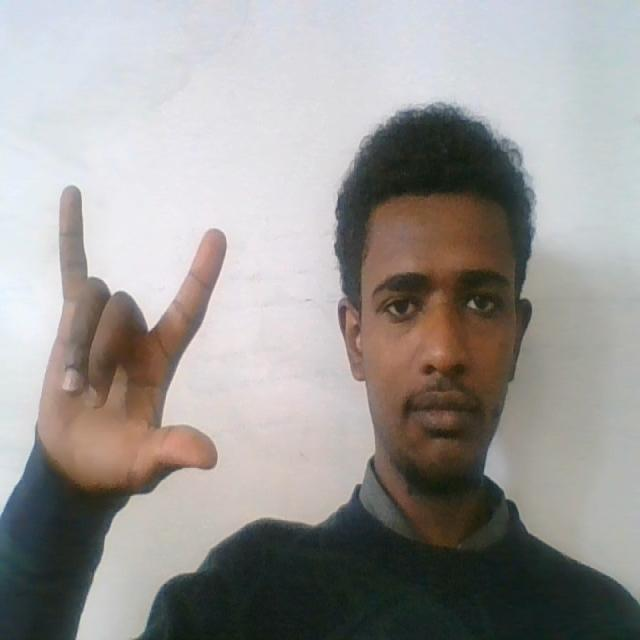iloveyou: (22, 182, 235, 496)
